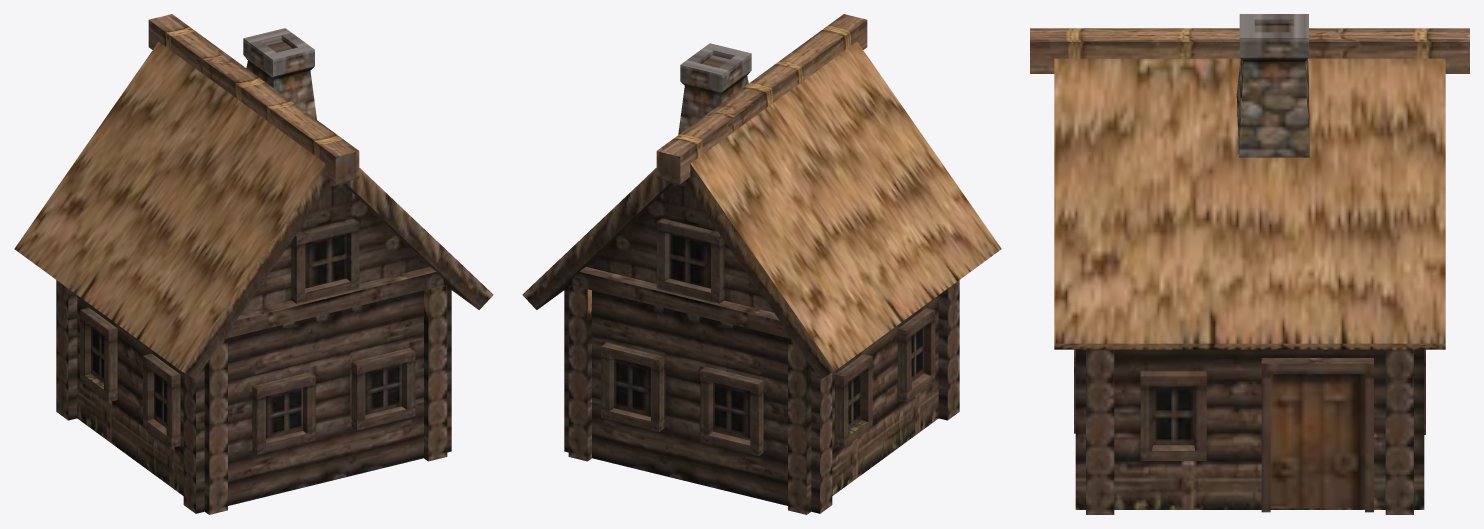
File: village_house9.glb
The picture shows the model from 3 angles, left to right: view 1: azimuth 30°, elevation 25°; view 2: azimuth 150°, elevation 25°; view 3: azimuth 270°, elevation 25°; orthographic projection. The views are drawn at different scales.
Parts seen in each view (by area): view 1: House; view 2: House; view 3: House.
Boxes of the visible parts, x1,y1,x2,y2 form: House: (14,14,493,514); House: (522,14,1001,514); House: (1030,14,1469,514).
Size of the model in its own units: 7.93 by 9 by 8.22.
Materials: 1 (1 with a texture image).
